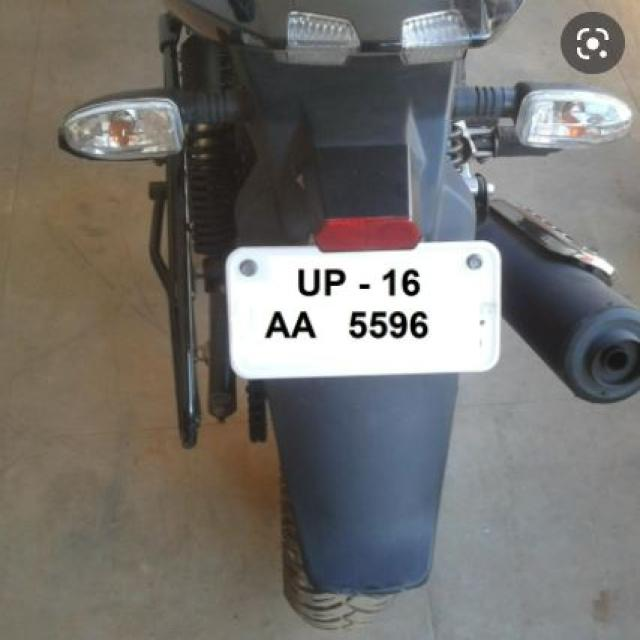license_plate: (222, 237, 502, 379)
